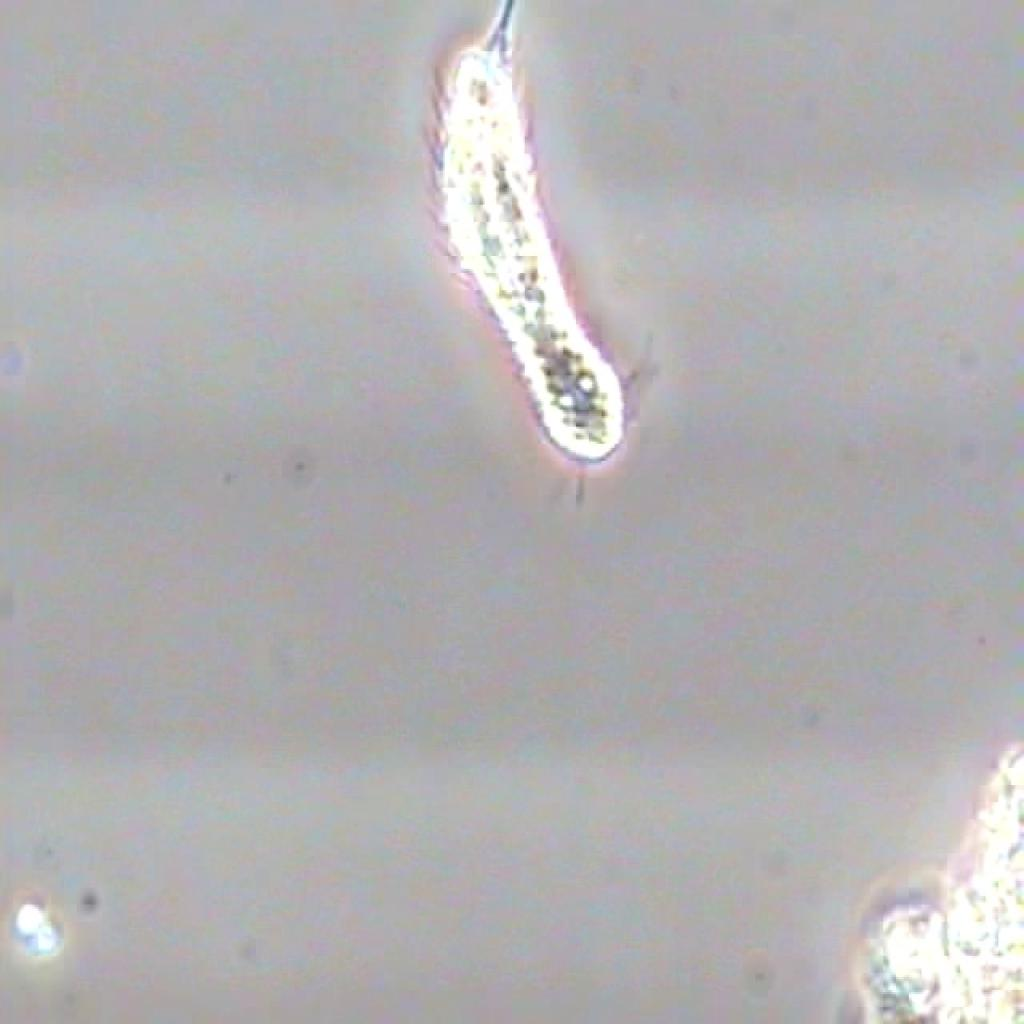Chaetonotus: (420, 3, 676, 515)
